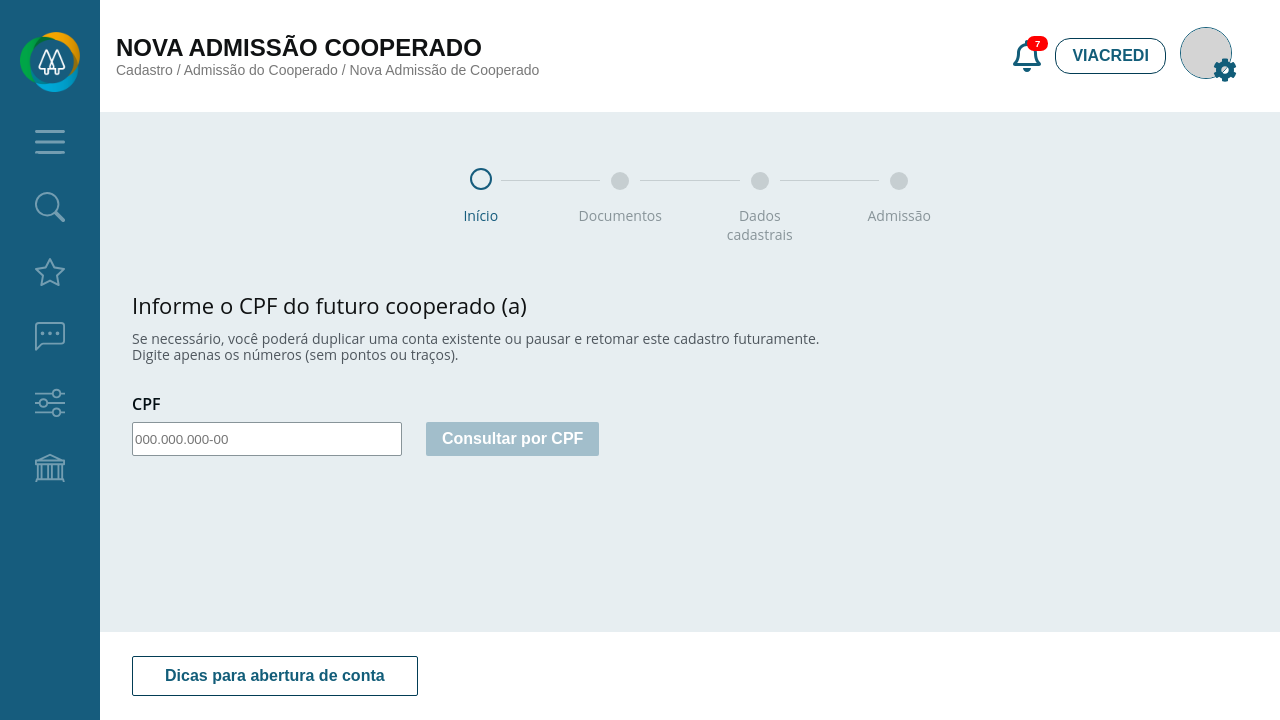
OnboardingService › should show error messasge when a incorret cpf is provided
This screenshot has width=1280, height=720.
Type "111.111.111-11" into the field with id "cpf-input".
click(267, 440); type("111.111.111-11")  # box [132,423,402,457]
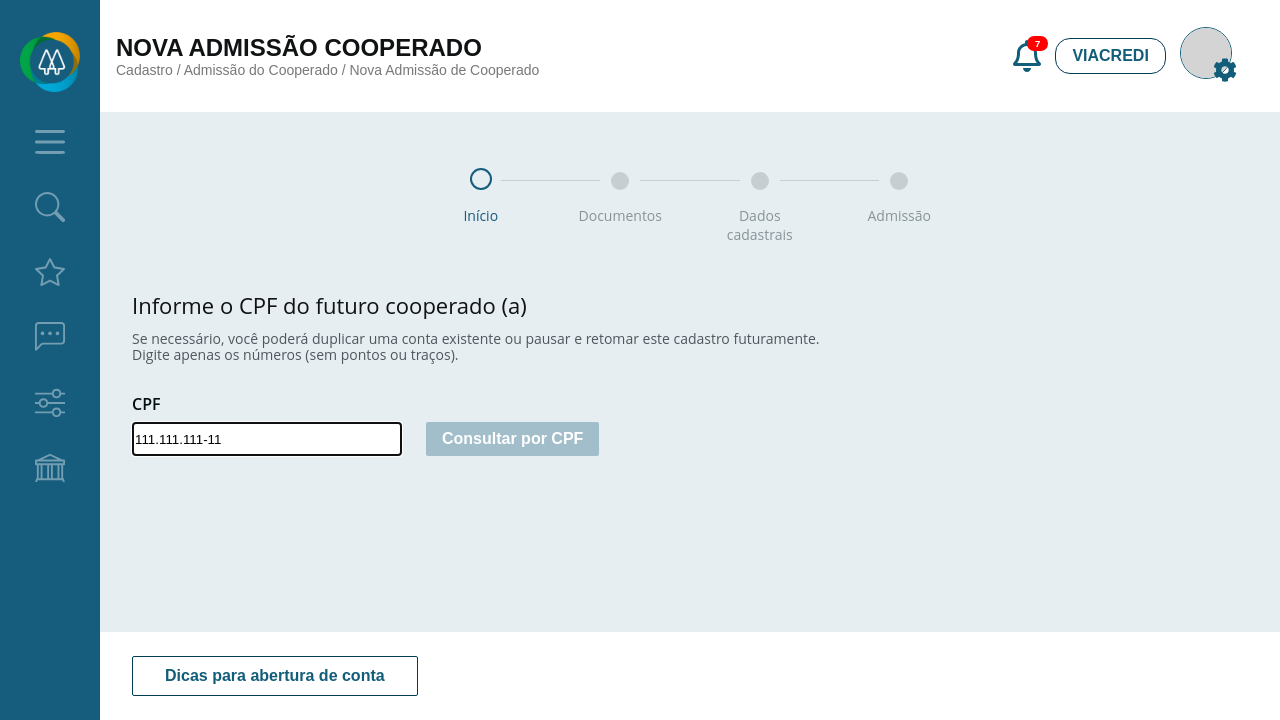
Leave the field with id "cpf-input", box [132,423,402,457]
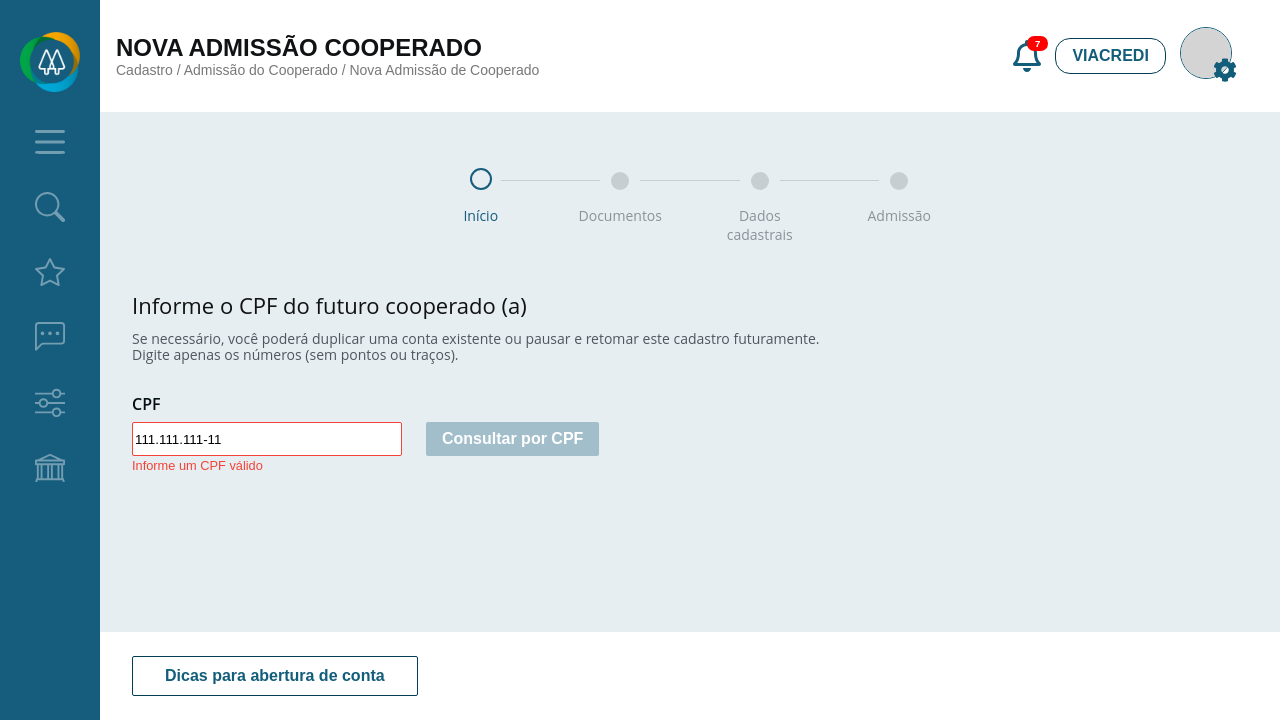
Result: the text "Informe um CPF válido" is shown at [132,458,263,474]
